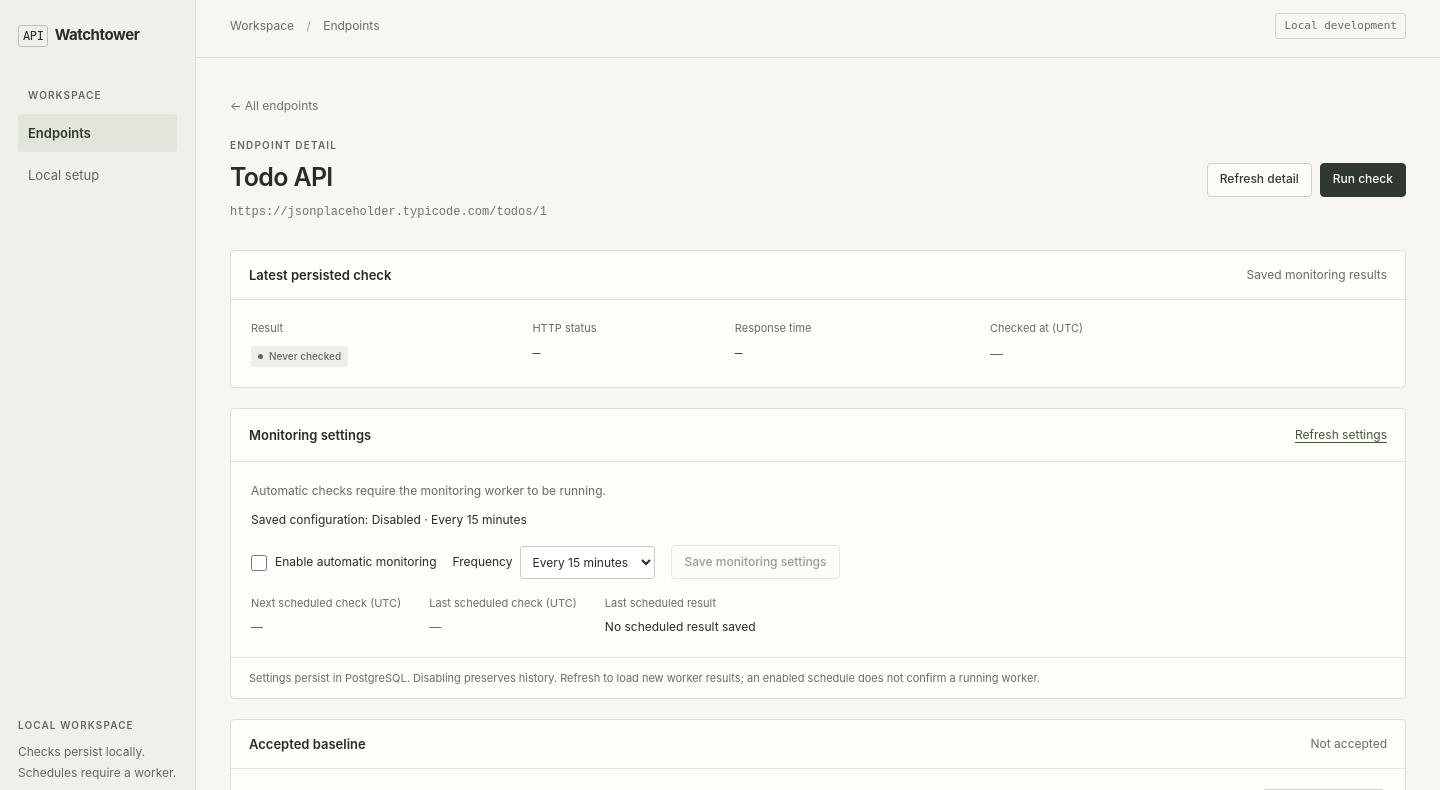
Test: endpoint detail, checking, and history › runs a check and reloads its actual status, latency, and history
This screenshot has width=1440, height=790.
Step 1. Click the button "Run check" → (1363, 180), box [1320,163,1406,197]
(page scrolled)
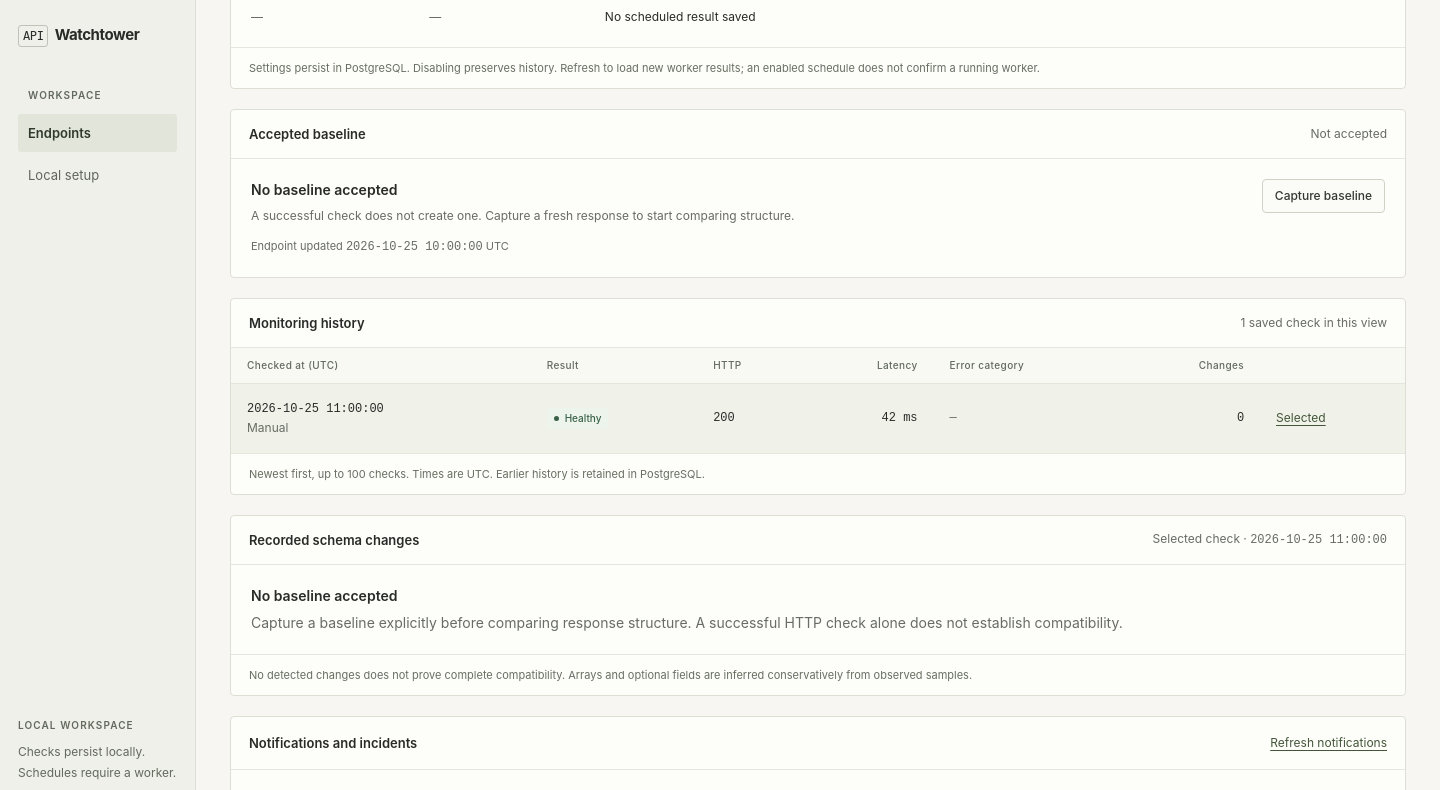
Result: the table named "Persisted checks, newest first" is shown at [231,348,1405,453]
